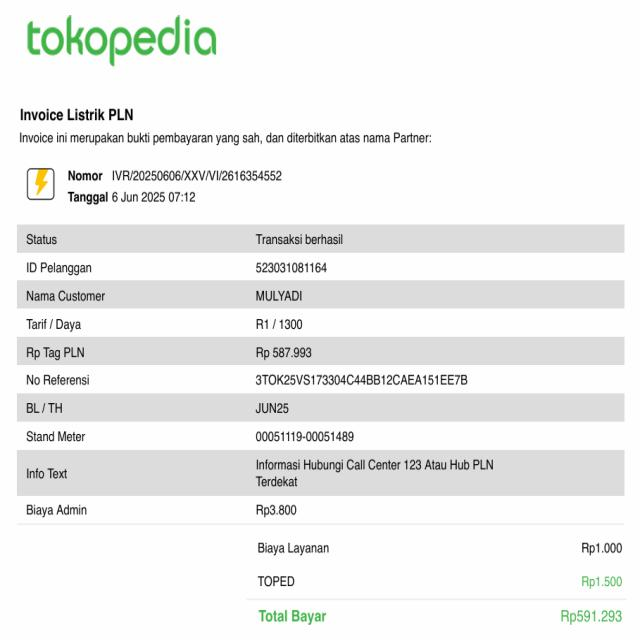date: (110, 190, 198, 207)
store: (22, 19, 222, 63), (18, 105, 135, 128)
total: (256, 601, 634, 631)
